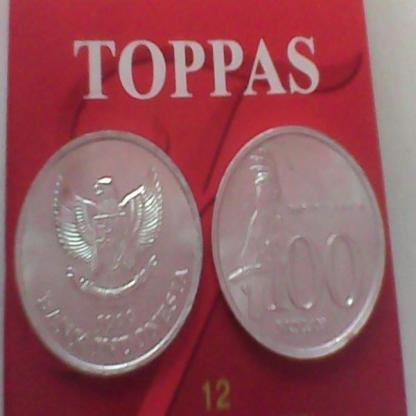coin_100_e1999: (208, 123, 390, 366)
